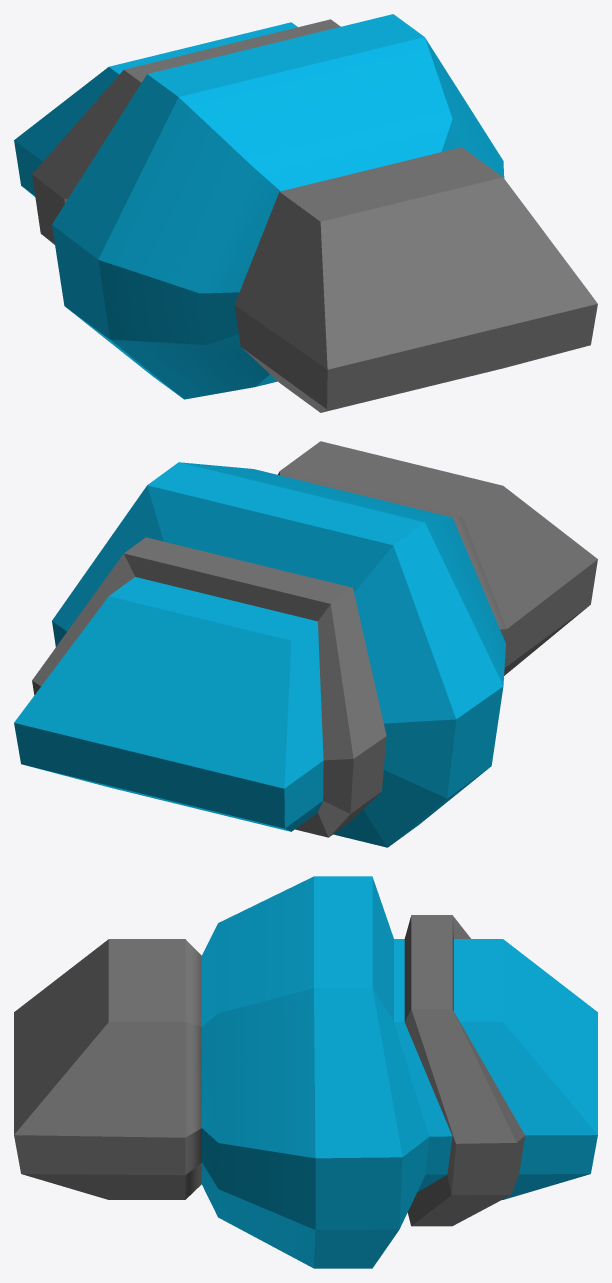
Rendered from _1Ship_PIece23.fbx.
3 renders of one model, top to bottom at view 1: azimuth 30°, elevation 25°; view 2: azimuth 150°, elevation 25°; view 3: azimuth 270°, elevation 25°, orthographic. The views are drawn at different scales.
Visible parts, largest first — view 1: Ship_PIece23; view 2: Ship_PIece23; view 3: Ship_PIece23.
Boxes of the visible parts, x1,y1,x2,y2 form: Ship_PIece23: (14,14,597,412); Ship_PIece23: (14,441,597,847); Ship_PIece23: (14,876,597,1268).
Bounding box in the file's own units: 277 × 199 × 372.
